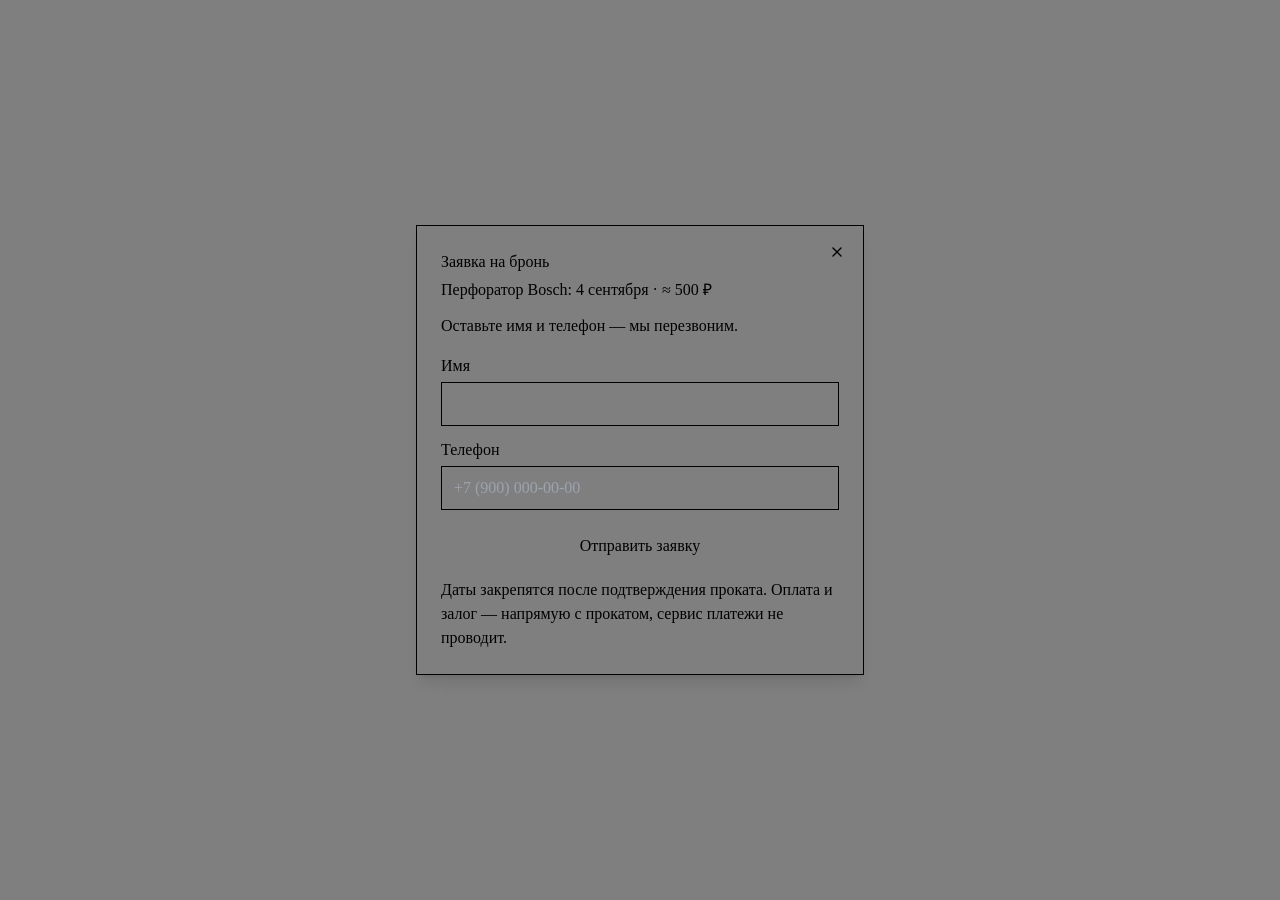
Test: запасная форма › неполный номер не уходит на сервер, подсказка — до следующей правки
Type "Тимур" into the field labelled "Имя" at {"x": 640, "y": 404}, box left=441, top=382, right=839, bottom=426
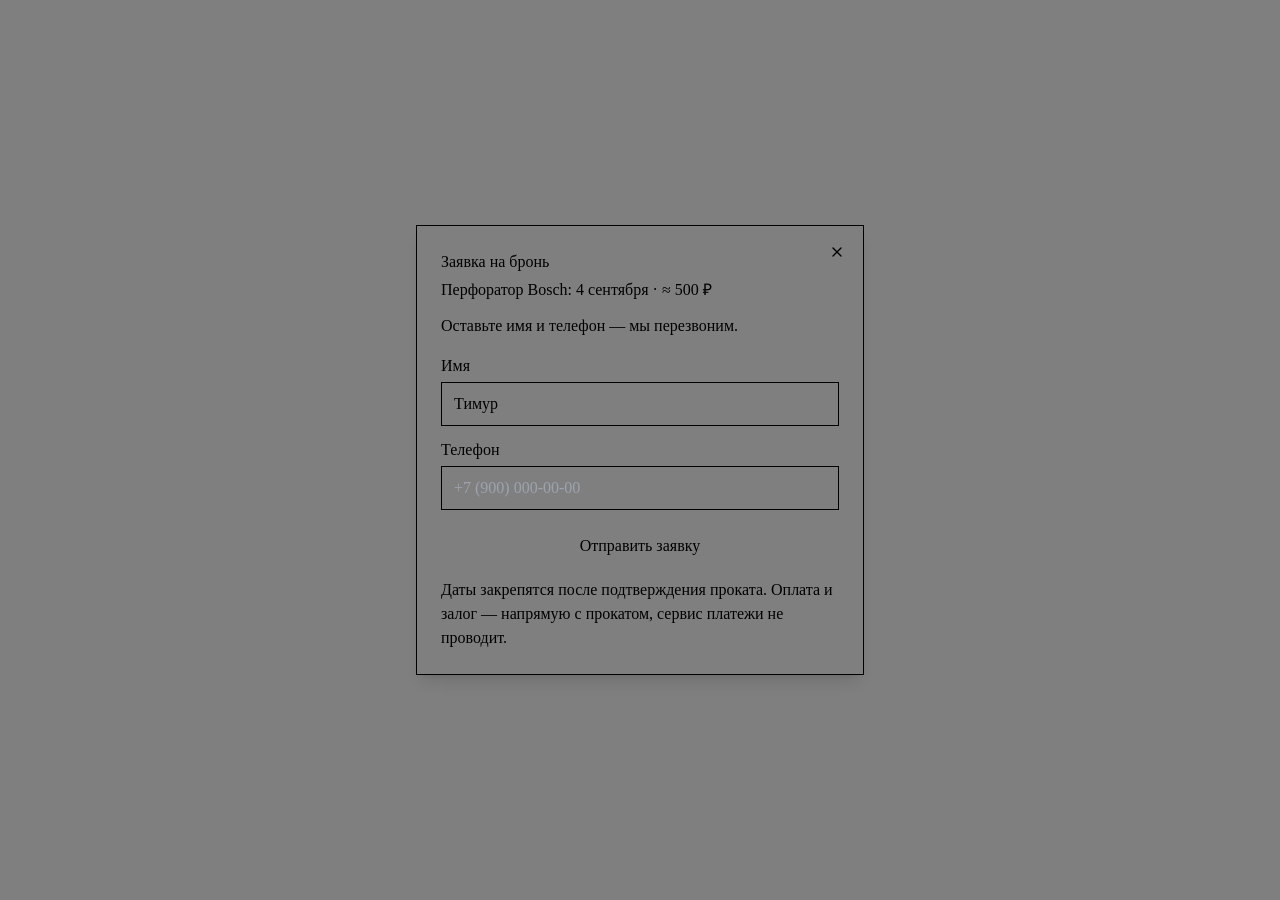
Type "+7 900 123" into the field labelled "Телефон" at {"x": 640, "y": 488}, box left=441, top=466, right=839, bottom=510
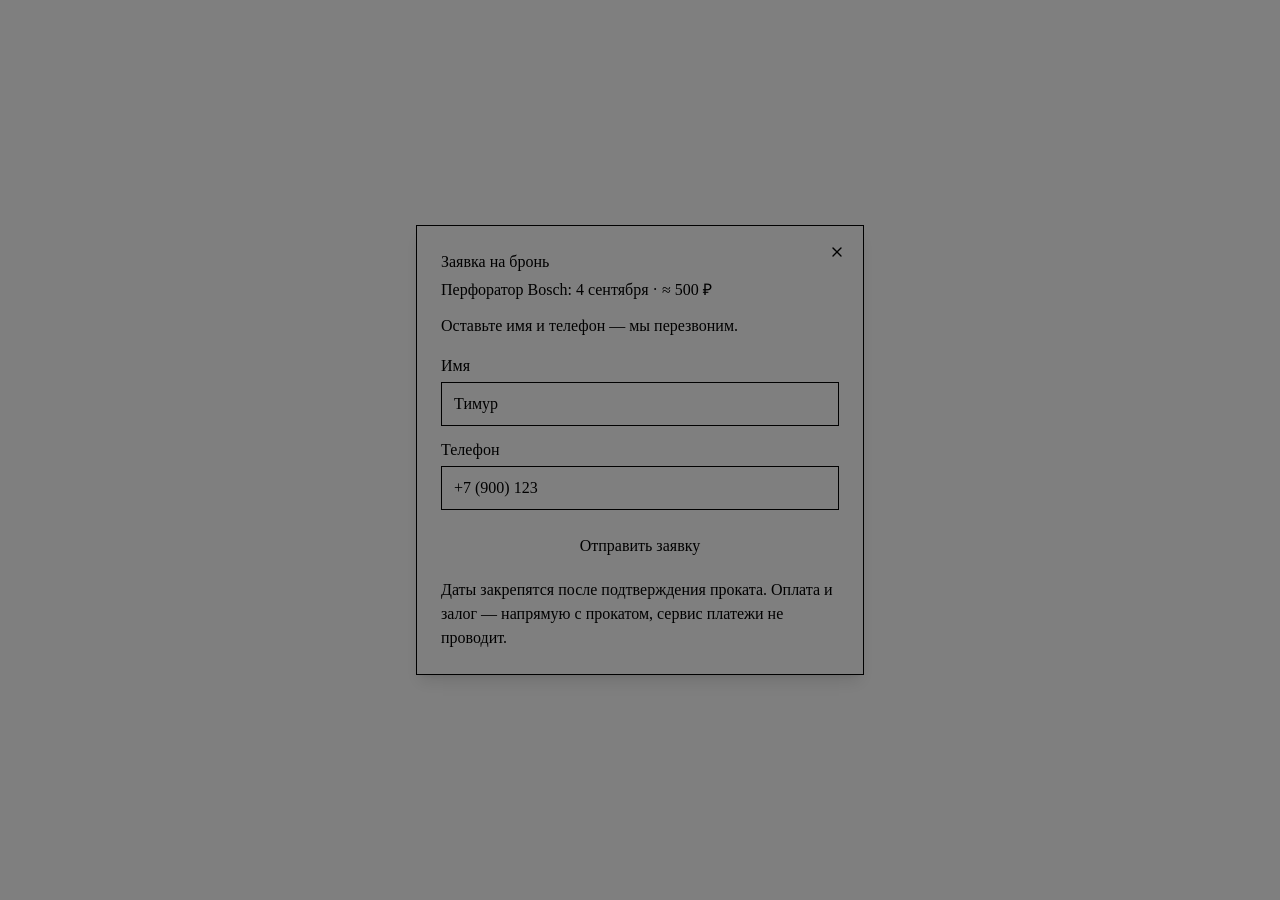
Submit the form named "booking_lead", box left=441, top=354, right=839, bottom=650
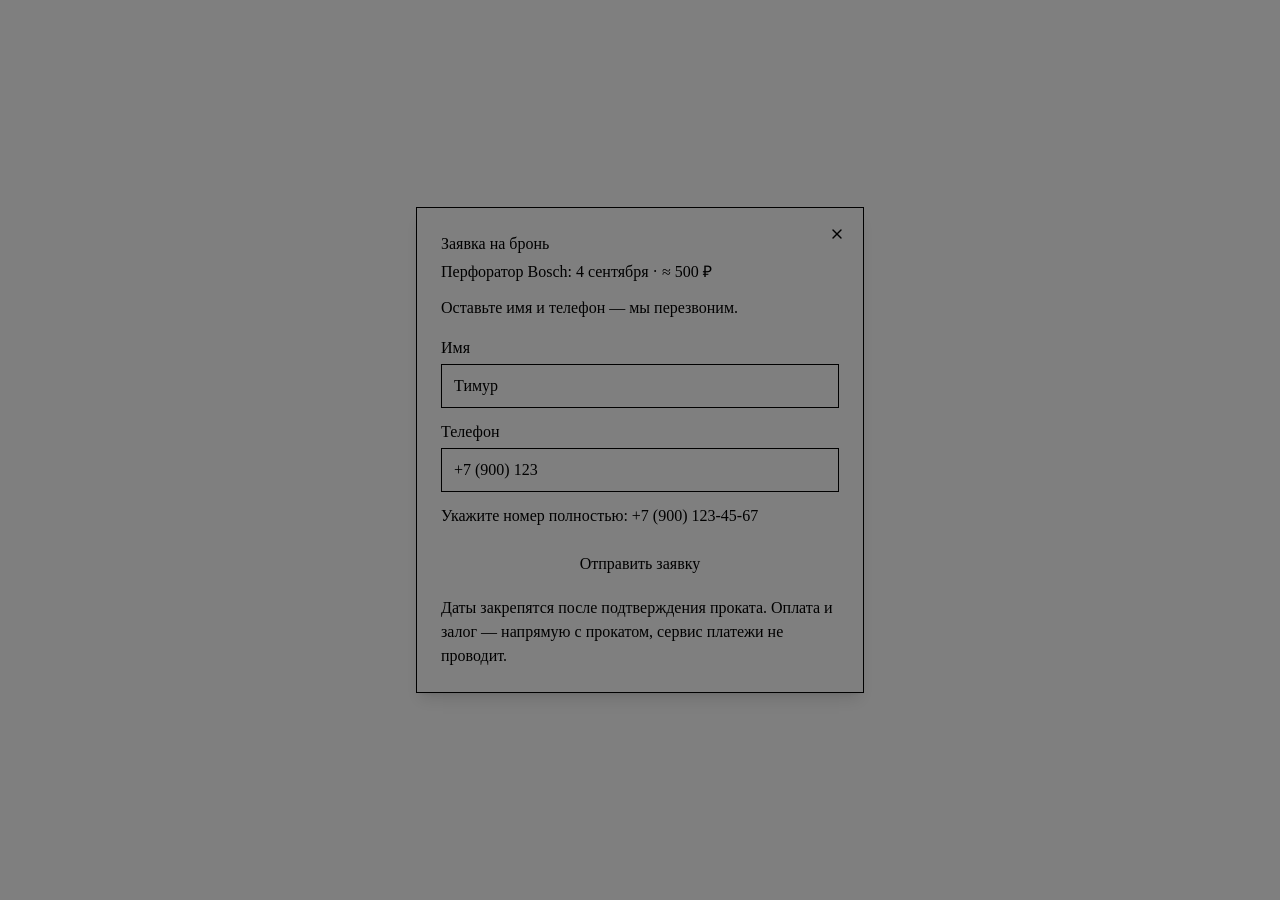
Result: the message shows "Укажите номер полностью" at left=441, top=507, right=758, bottom=524
Replace the text in the field labelled "Телефон" with "+7 (900) 1234" at {"x": 640, "y": 470}, box left=441, top=448, right=839, bottom=492
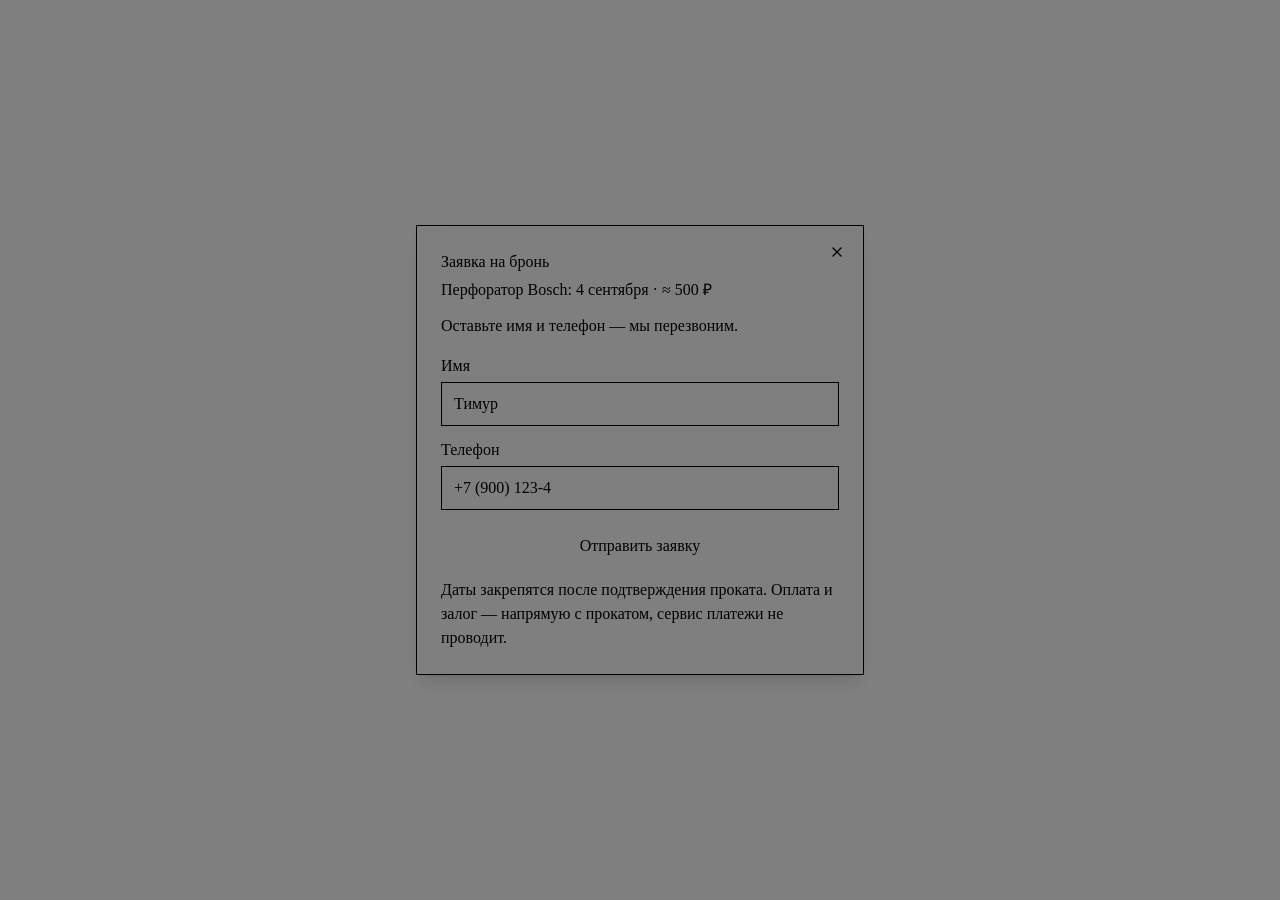
Result: the message "Укажите номер полностью: +7 (900) 123-45-67" is gone
